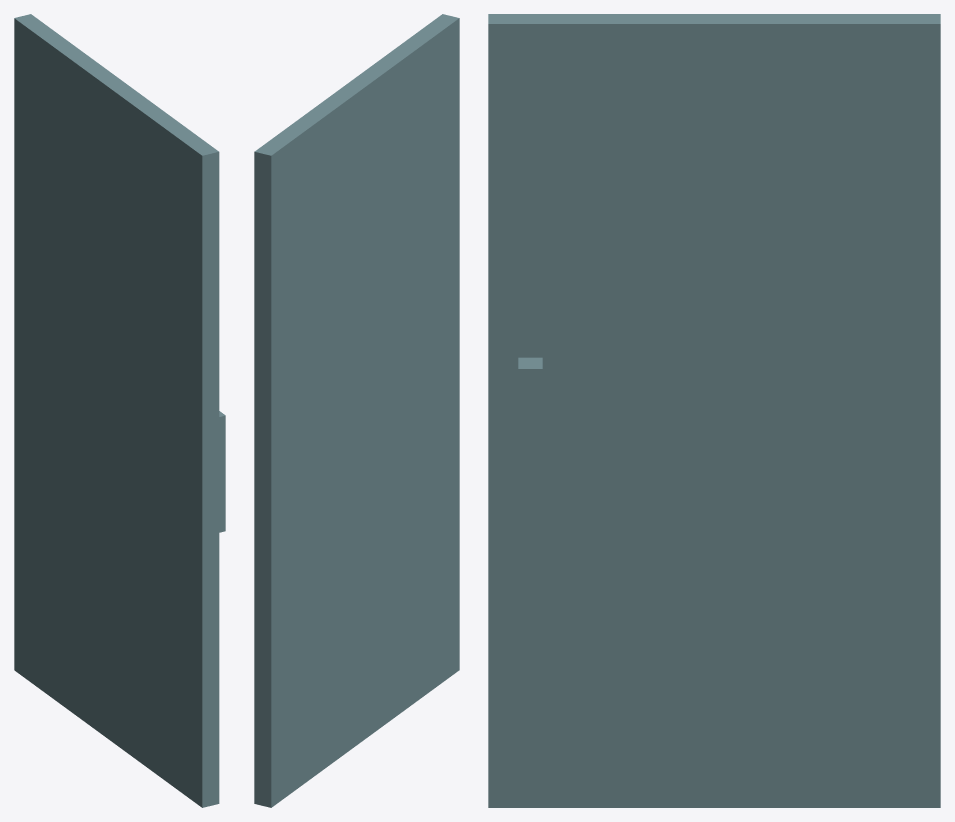
The model's file is Cabinet_Big_Door.006.fbx.
The picture shows the model from 3 angles, left to right: view 1: azimuth 30°, elevation 25°; view 2: azimuth 150°, elevation 25°; view 3: azimuth 270°, elevation 25°; orthographic projection. The views are drawn at different scales.
Parts seen in each view (by area): view 1: Cabinet_Big_Door.006; view 2: Cabinet_Big_Door.006; view 3: Cabinet_Big_Door.006.
Boxes of the visible parts, box(x1,y1,x2,y2) form: Cabinet_Big_Door.006: box(14, 14, 225, 807); Cabinet_Big_Door.006: box(254, 14, 459, 807); Cabinet_Big_Door.006: box(488, 14, 940, 807).
Bounding box in the file's own units: 7.35 × 127 × 66.6.
